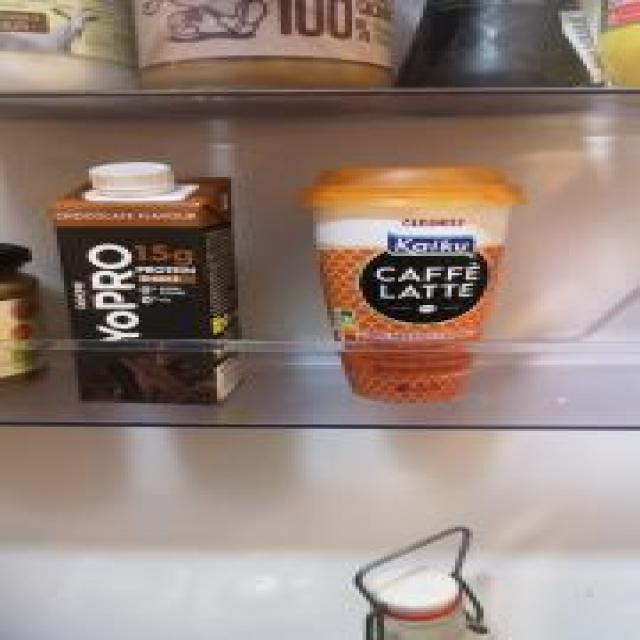yogurt: (41, 157, 261, 410)
